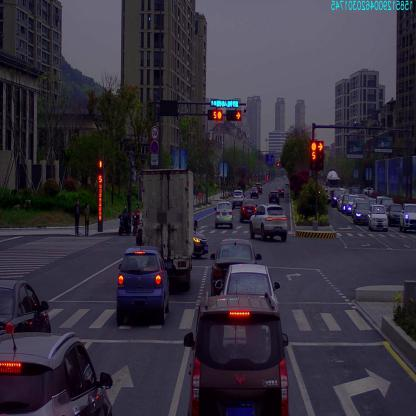traffic-light: (210, 99, 238, 108), (209, 110, 224, 120), (227, 110, 242, 120)
